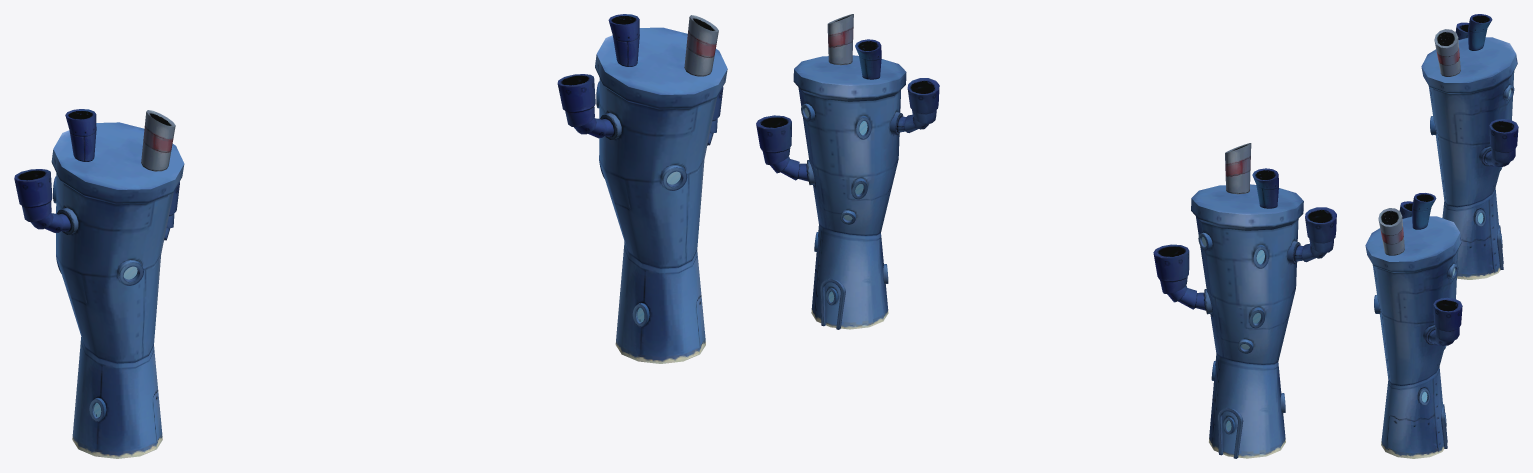
3 views of the same model, side by side, from view 1: azimuth 30°, elevation 25°; view 2: azimuth 150°, elevation 25°; view 3: azimuth 270°, elevation 25° (orthographic). The views are drawn at different scales.
Visible parts, largest first — view 1: Object_22; view 2: Object_22; view 3: Object_22.
Boxes of the visible parts, x1,y1,x2,y2 form: Object_22: (14,14,727,458); Object_22: (756,14,1336,458); Object_22: (1365,14,1518,458).
Size of the model in its own units: 189 by 87.28 by 49.94.
Materials: 1 (1 with a texture image).
